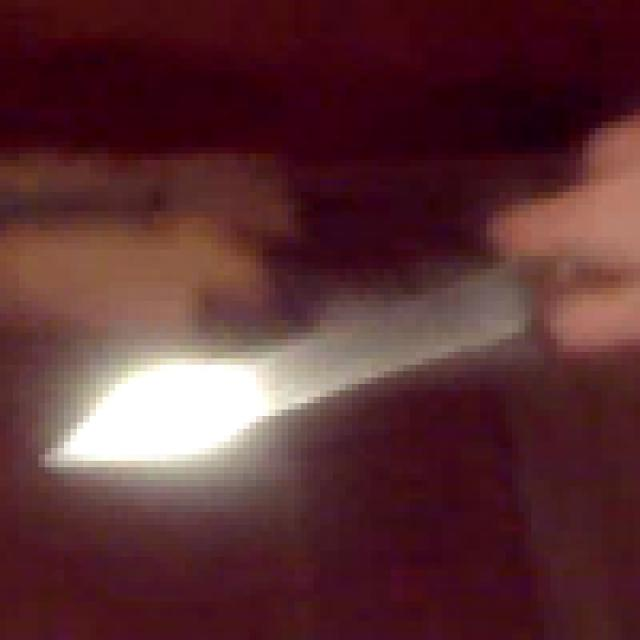Knife_Handle: (38, 112, 640, 464)
